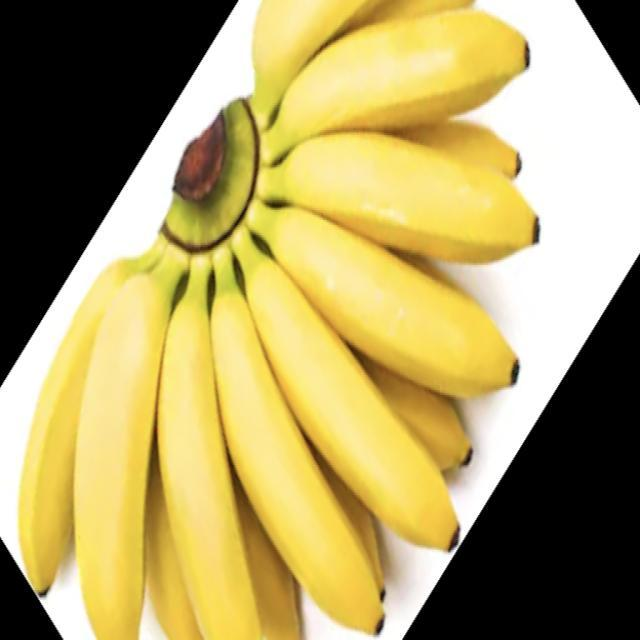Banana: (22, 4, 543, 640)
